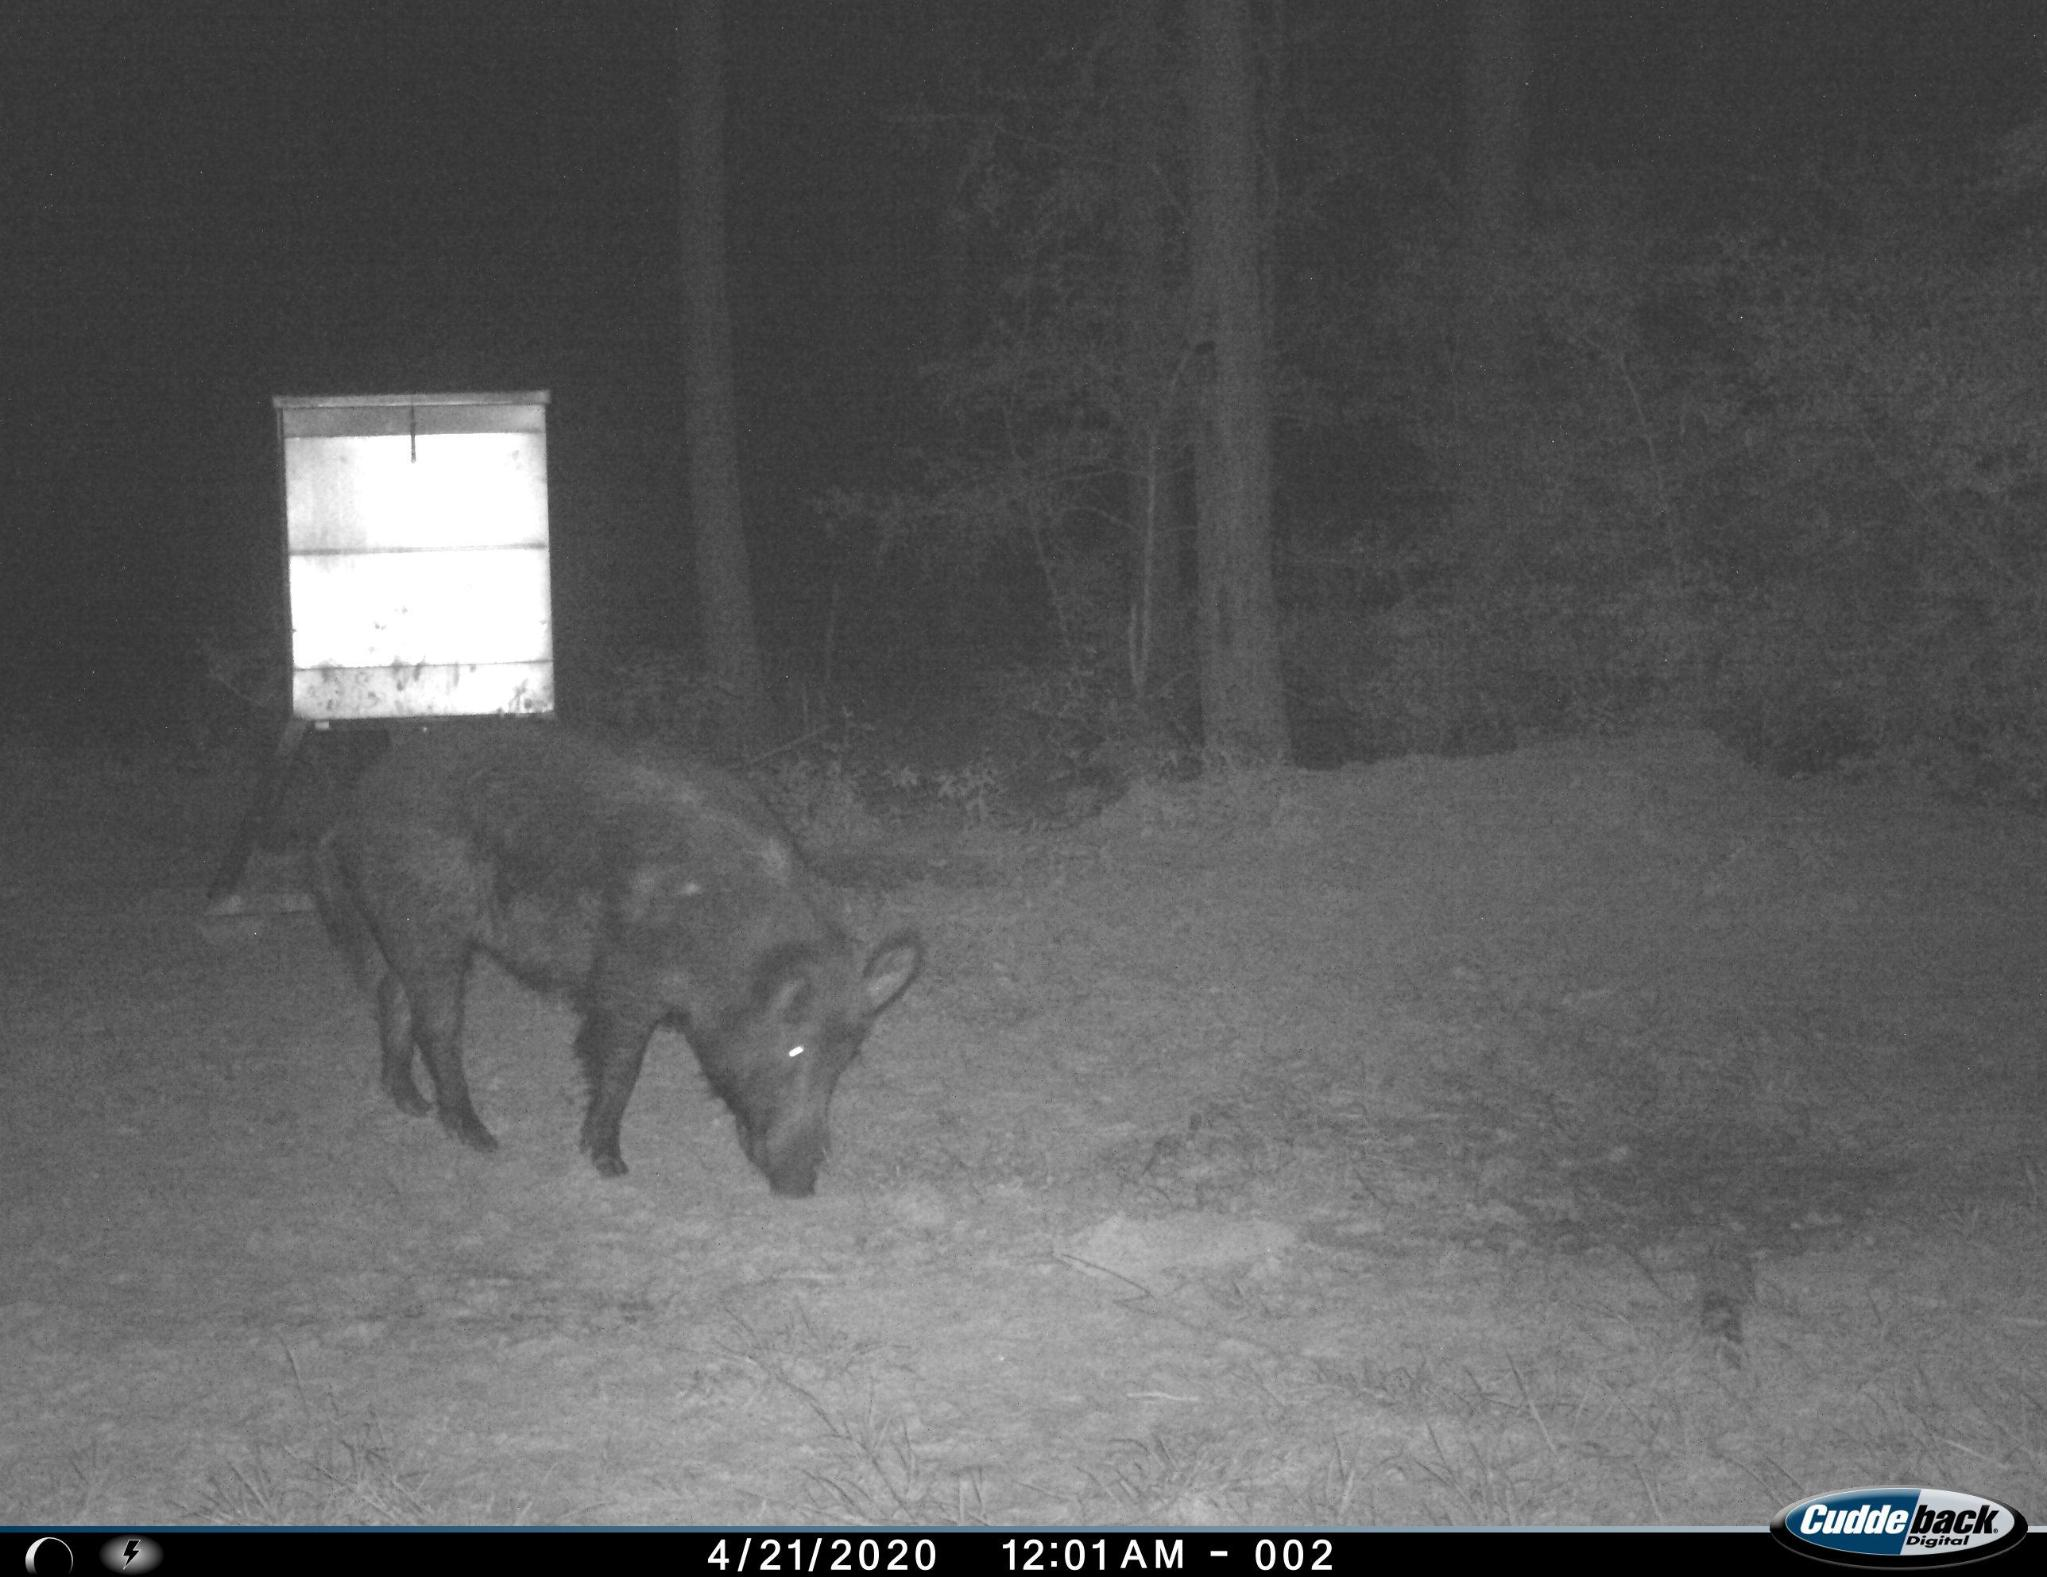Hog: (303, 707, 936, 1216)
